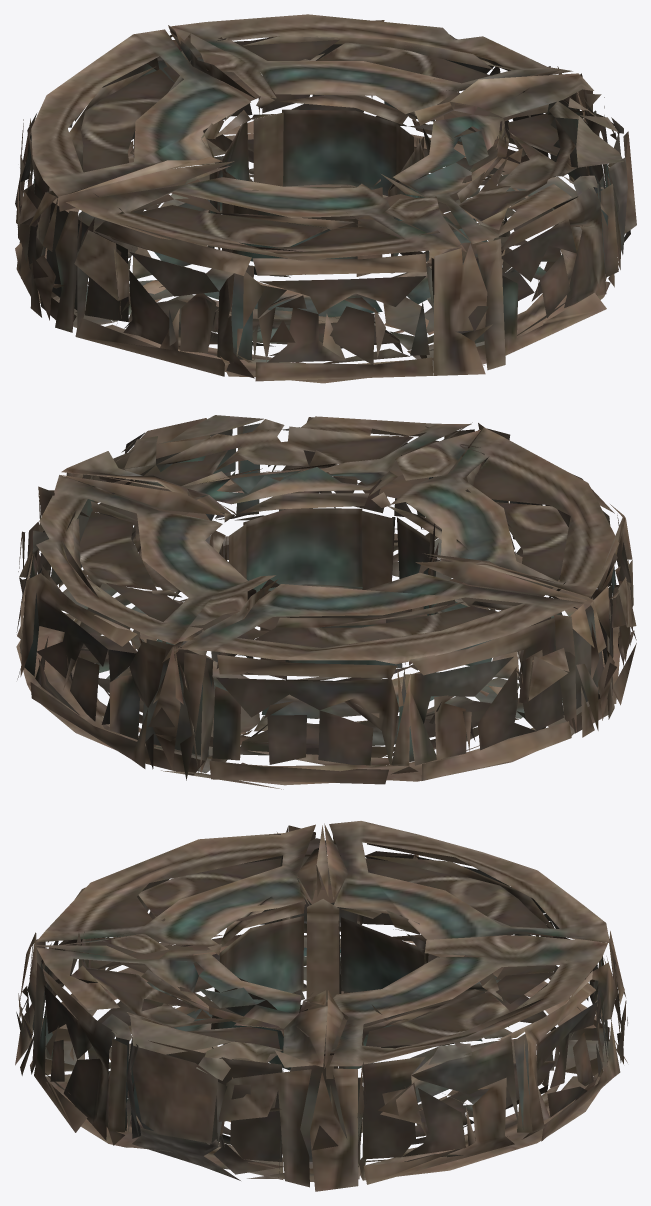
Rendered from pro_artifact.glb.
3 views of the same model, one above another, from view 1: azimuth 30°, elevation 25°; view 2: azimuth 150°, elevation 25°; view 3: azimuth 270°, elevation 25° (orthographic). The views are drawn at different scales.
Visible parts, largest first — view 1: MetricPlacement; view 2: MetricPlacement; view 3: MetricPlacement.
Boxes of the visible parts, x1,y1,x2,y2 form: MetricPlacement: (15, 14, 636, 383); MetricPlacement: (16, 415, 636, 789); MetricPlacement: (15, 821, 627, 1191).
Bounding box in the file's own units: 0.2 × 0.0497 × 0.1986.
Materials: 1 (1 with a texture image).
